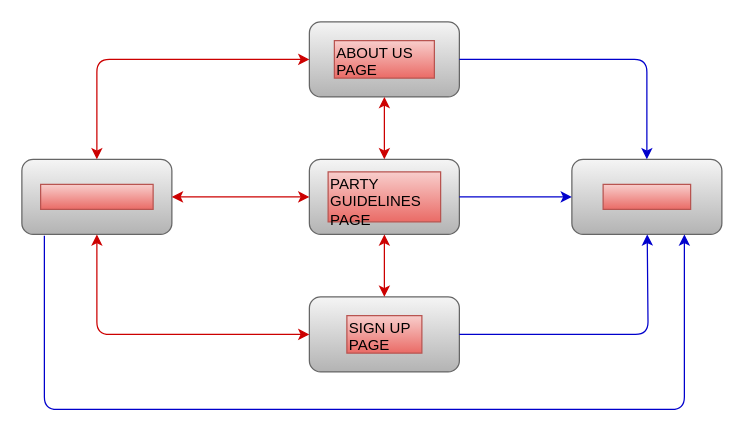
This 744x441 diagram has some shape labels left out. The shapes that lost their labels are listed below. From the top down, each one's box as (x1, y1, x2, y2) in pixels, then its label:
(21, 158, 172, 234): HOME PAGE
(571, 158, 722, 234): SIDE BAR
